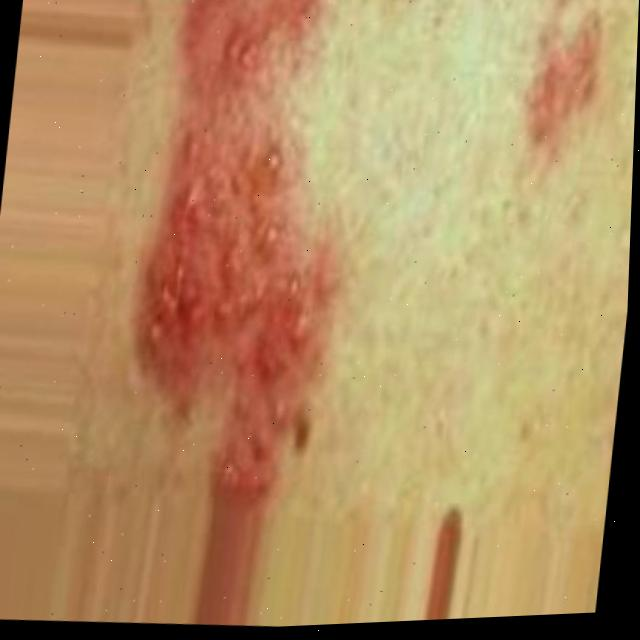Shingles: (115, 0, 380, 506), (519, 0, 612, 154)
